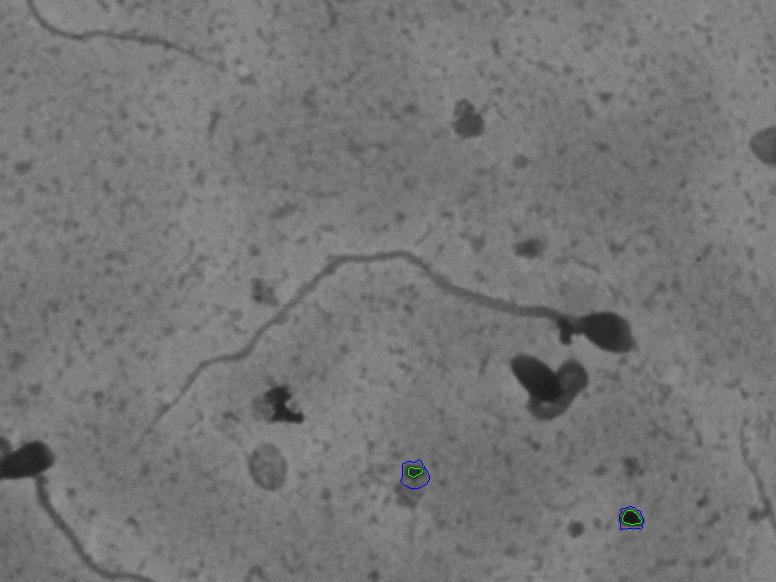Abnormal: (100, 189, 658, 466), (494, 354, 596, 454)
